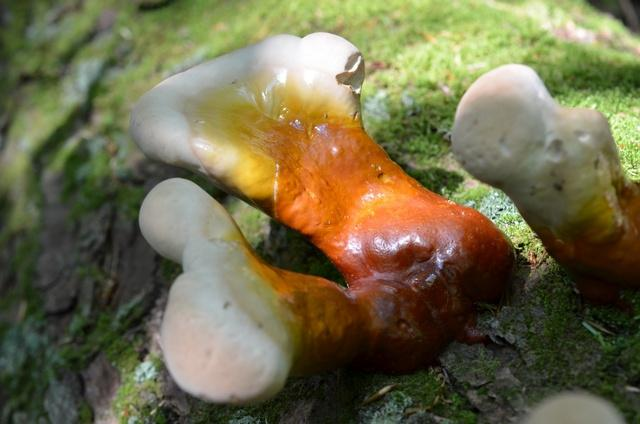poisonous_mushroom: (128, 29, 516, 405), (448, 61, 638, 298)
